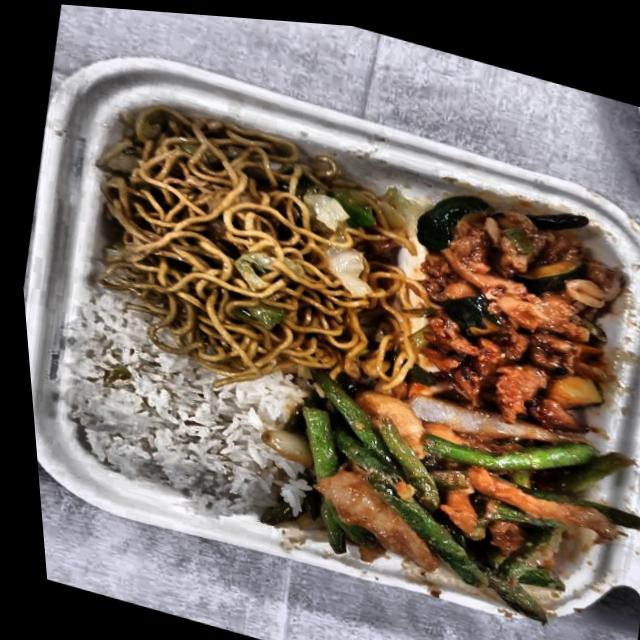Food: (58, 79, 435, 411), (253, 344, 640, 640), (375, 164, 640, 440), (48, 302, 302, 518)
